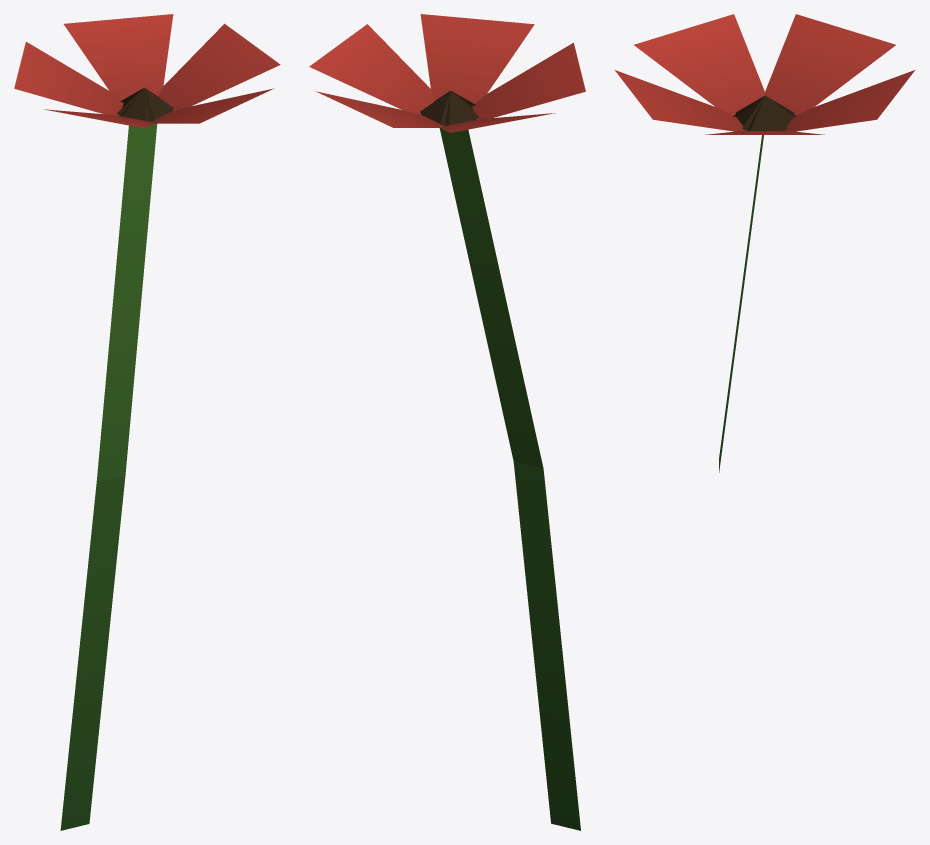
The model's file is flower_red.glb.
The picture shows the model from 3 angles, left to right: view 1: azimuth 30°, elevation 25°; view 2: azimuth 150°, elevation 25°; view 3: azimuth 270°, elevation 25°; orthographic projection. The views are drawn at different scales.
Visible parts, largest first — view 1: flower_red; view 2: flower_red; view 3: flower_red.
Part boxes in pixels (box(x1,y1,x2,y2)): flower_red: box(14, 14, 280, 830); flower_red: box(309, 14, 585, 830); flower_red: box(615, 14, 914, 472).
Size of the model in its own units: 0.1244 by 0.381 by 0.1308.
